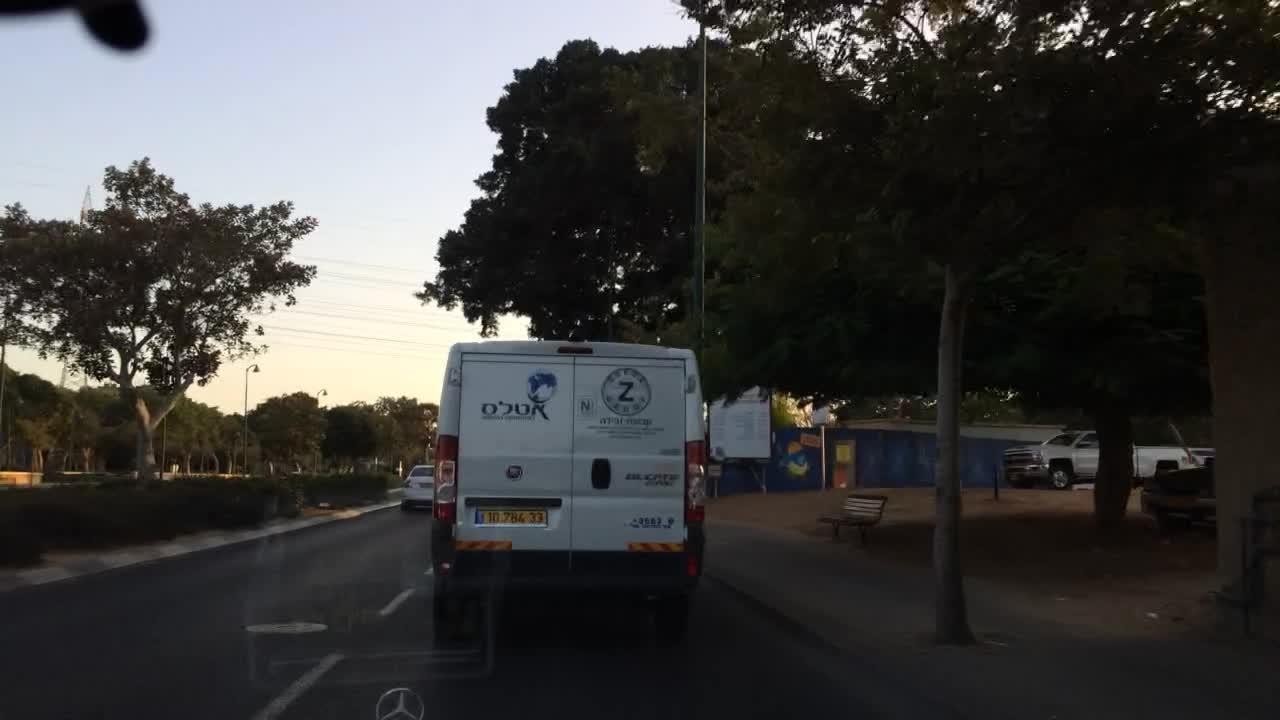Mercedes: (363, 674, 438, 720)
ford: (502, 462, 526, 484)
